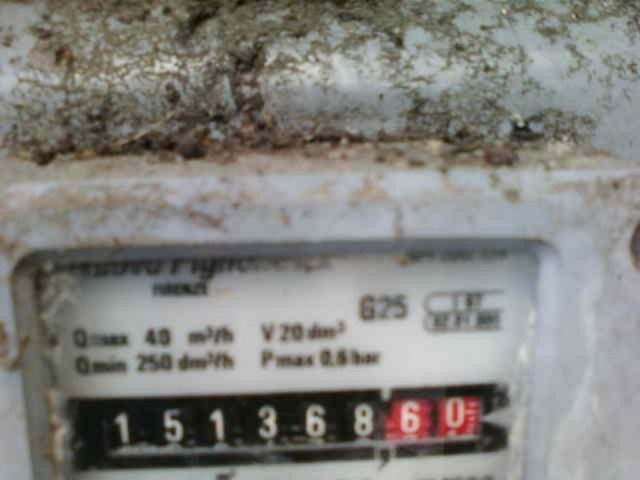ssgc: (68, 393, 514, 458)
